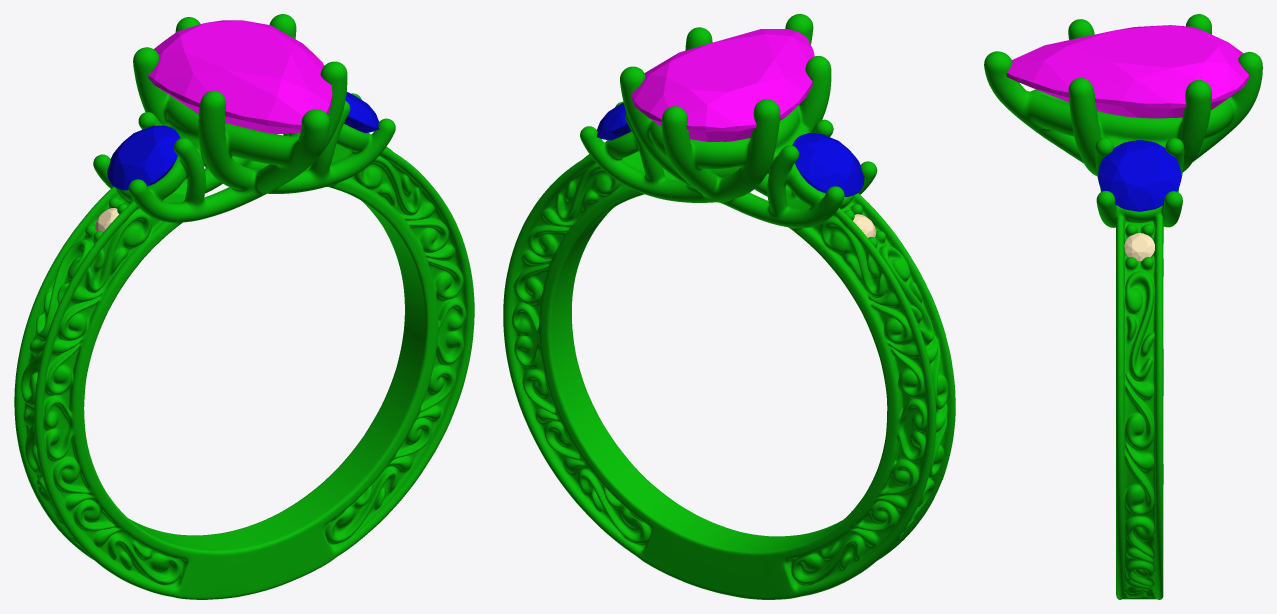
Rendered from BE1DAS2R30_PE_200ct_RENDER.glb.
The picture shows the model from 3 angles, left to right: view 1: azimuth 30°, elevation 25°; view 2: azimuth 150°, elevation 25°; view 3: azimuth 270°, elevation 25°; orthographic projection.
Parts seen in each view (by area): view 1: Metal 01, CS_Diamond_Pear, Diamond_Round_side.001, Diamond_Round_side; view 2: Metal 01, CS_Diamond_Pear, Diamond_Round_side.001, Diamond_Round_side; view 3: Metal 01, CS_Diamond_Pear, Diamond_Round_side, Diamond_Round_Gem_SH.001.
Part boxes in pixels (box(x1,y1,x2,y2)): Metal 01: box(14, 14, 474, 599); CS_Diamond_Pear: box(148, 20, 332, 134); Diamond_Round_side.001: box(107, 125, 180, 190); Diamond_Round_side: box(344, 92, 378, 132); Metal 01: box(503, 14, 955, 599); CS_Diamond_Pear: box(631, 29, 814, 141); Diamond_Round_side.001: box(792, 133, 864, 196); Diamond_Round_side: box(597, 102, 631, 140); Metal 01: box(984, 14, 1262, 599); CS_Diamond_Pear: box(1006, 25, 1249, 118); Diamond_Round_side: box(1098, 140, 1181, 211); Diamond_Round_Gem_SH.001: box(1124, 233, 1154, 261).
Size of the model in its own units: 21.19 by 24.61 by 11.74.
